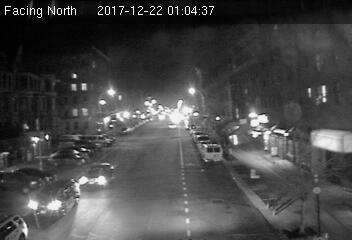car: (28, 178, 81, 218), (78, 161, 116, 189)
truck: (202, 143, 223, 163)
